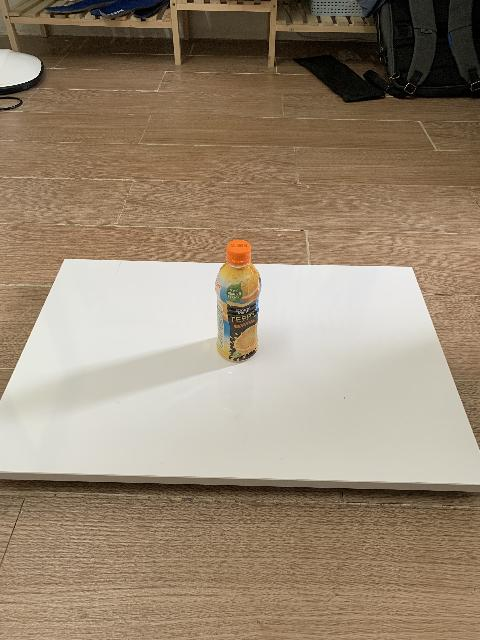teppy_orange_juice: (214, 240, 261, 365)
